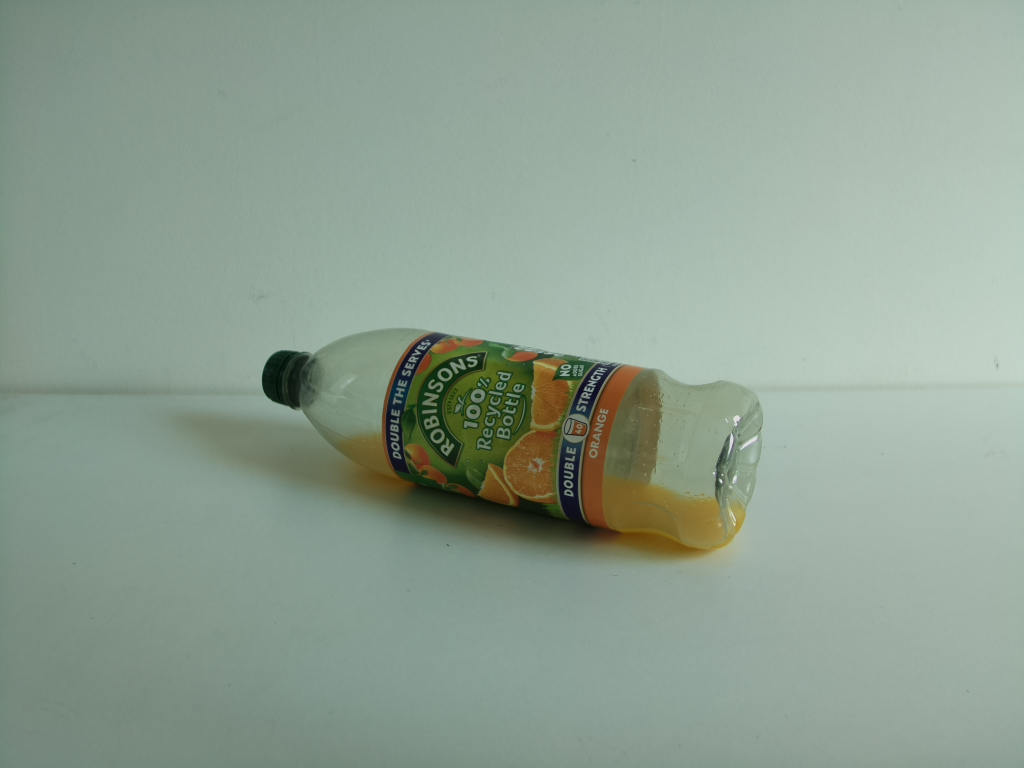juice: (249, 326, 766, 554)
